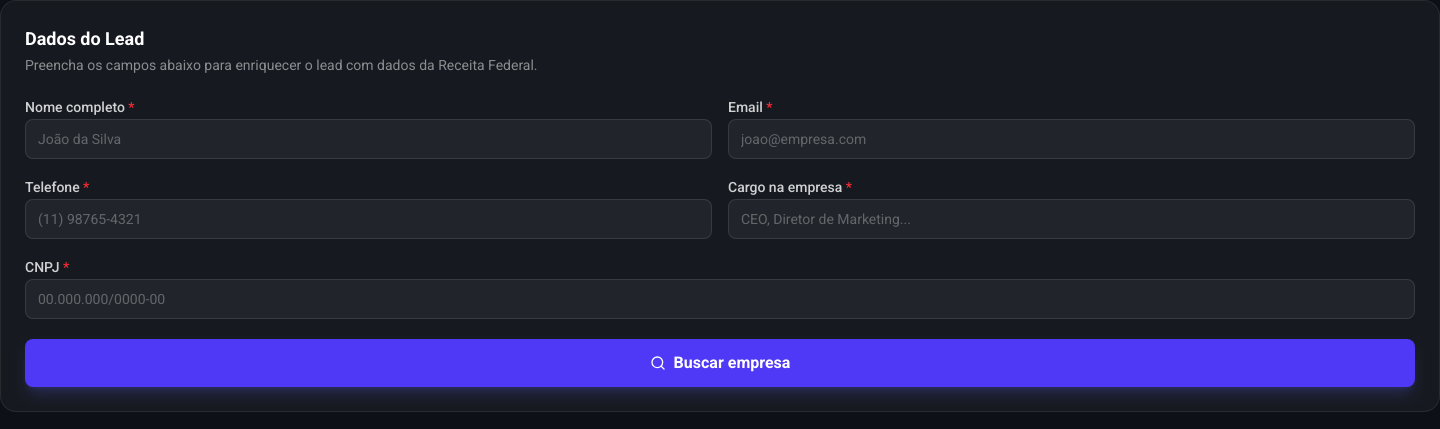
Test: SearchForm Component › permite a digitacao nos campos e aplica mascaras
In the field labelled "Telefone *": (368, 219) 25,199 -> 712,239, type "11987654321"
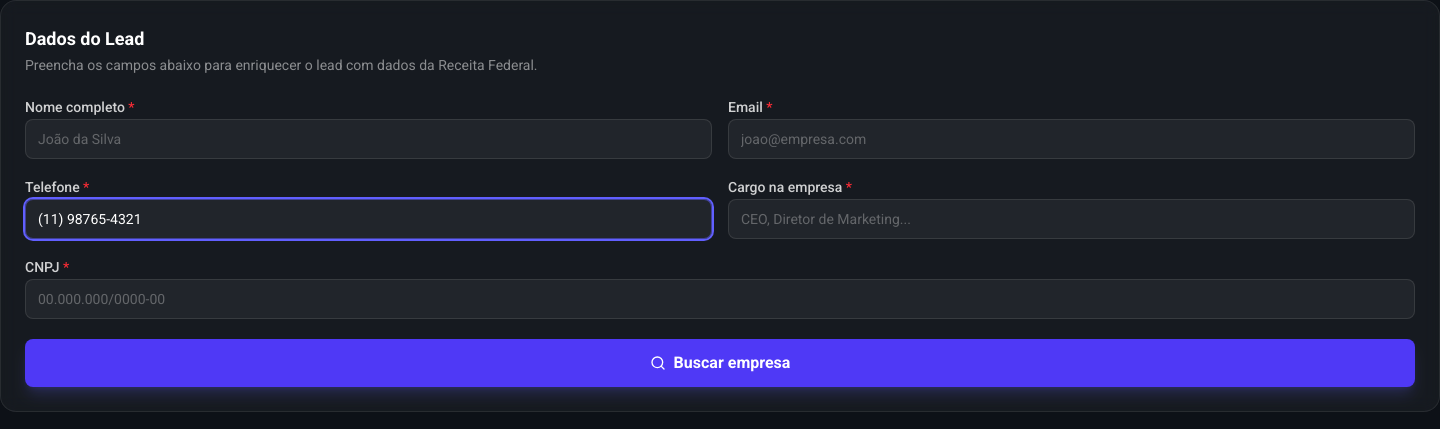
Result: the field labelled "Telefone *" holds "(11) 98765-4321" at 25,199 -> 712,239
In the field labelled "CNPJ *": (720, 299) 25,279 -> 1415,319, type "60701190000104"
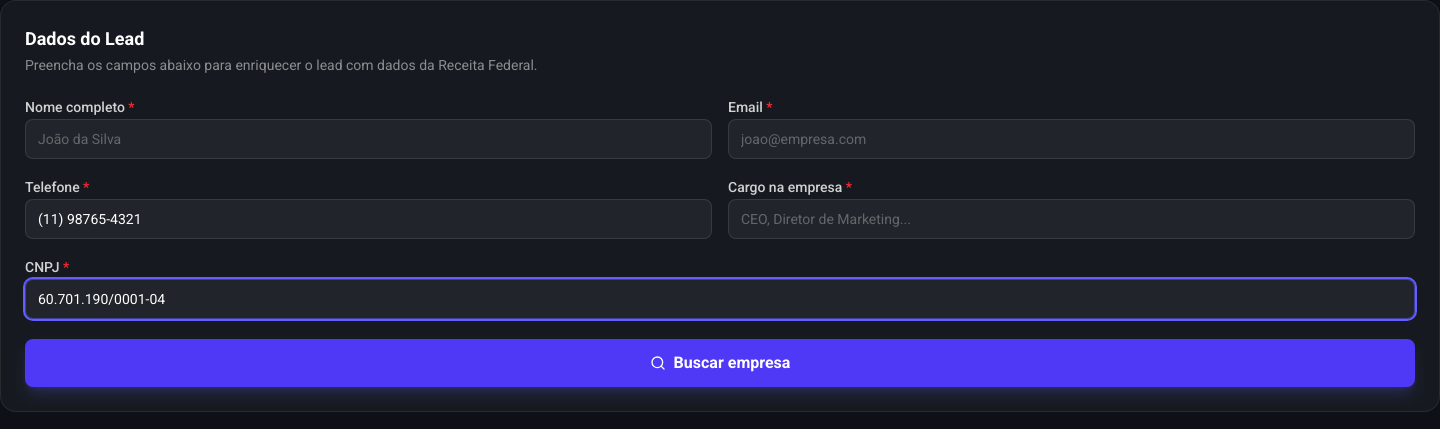
Result: the field labelled "CNPJ *" holds "60.701.190/0001-04" at 25,279 -> 1415,319
